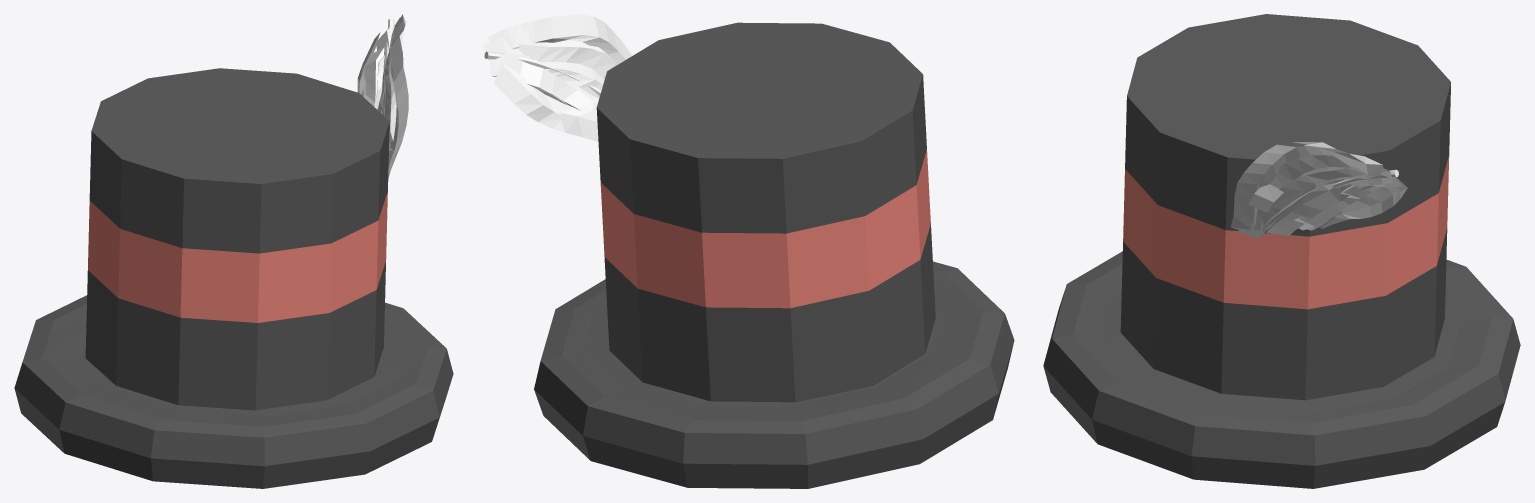
File: hat-top.glb
3 renders of one model, left to right at view 1: azimuth 30°, elevation 25°; view 2: azimuth 150°, elevation 25°; view 3: azimuth 270°, elevation 25°, orthographic. The views are drawn at different scales.
Parts seen in each view (by area): view 1: group853666832; view 2: group853666832; view 3: group853666832.
Boxes of the visible parts, x1,y1,x2,y2 form: group853666832: [14, 14, 453, 488]; group853666832: [482, 14, 1014, 488]; group853666832: [1043, 14, 1520, 488].
Size of the model in its own units: 1.23 by 0.935 by 1.16.
